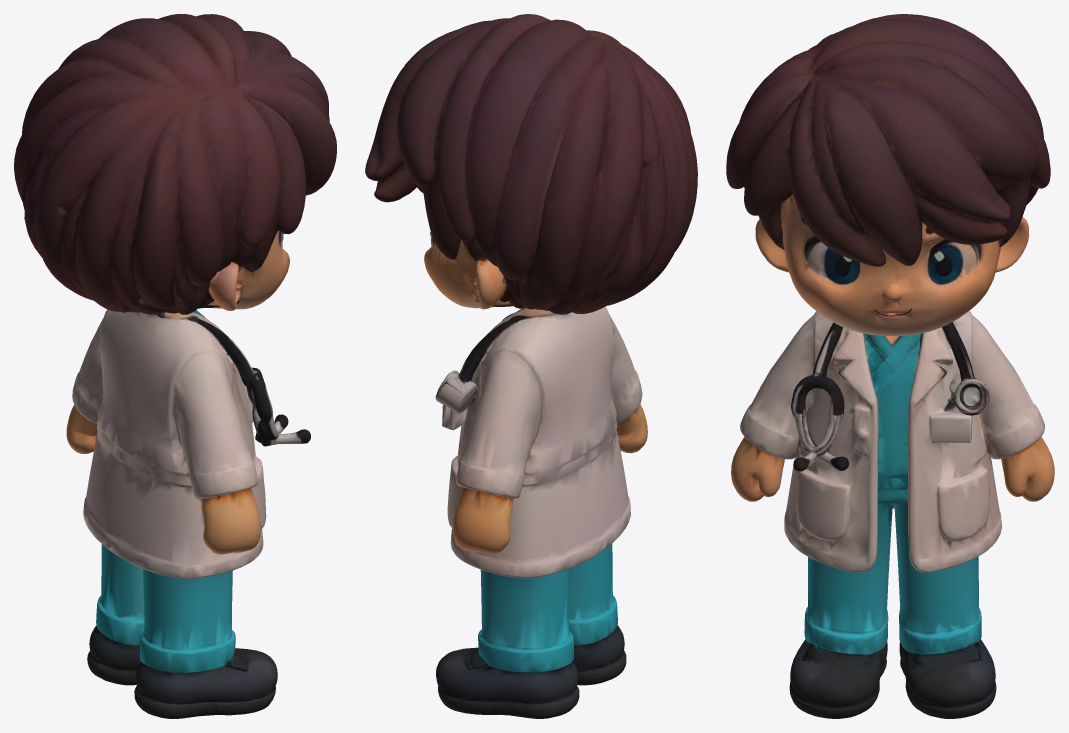
Rendered from doctor.glb.
3 renders of one model, left to right at view 1: azimuth 30°, elevation 25°; view 2: azimuth 150°, elevation 25°; view 3: azimuth 270°, elevation 25°, orthographic.
Visible parts, largest first — view 1: tripo_node_fc16a7a2-7105-4dd0-9197-75889adc198e; view 2: tripo_node_fc16a7a2-7105-4dd0-9197-75889adc198e; view 3: tripo_node_fc16a7a2-7105-4dd0-9197-75889adc198e.
Part boxes in pixels (<box>): tripo_node_fc16a7a2-7105-4dd0-9197-75889adc198e: <box>14,14,336,718</box>; tripo_node_fc16a7a2-7105-4dd0-9197-75889adc198e: <box>365,14,697,718</box>; tripo_node_fc16a7a2-7105-4dd0-9197-75889adc198e: <box>726,14,1054,718</box>.
Bounding box in the file's own units: 0.4488 × 0.9998 × 0.4488.
1 material, 1 textured.
